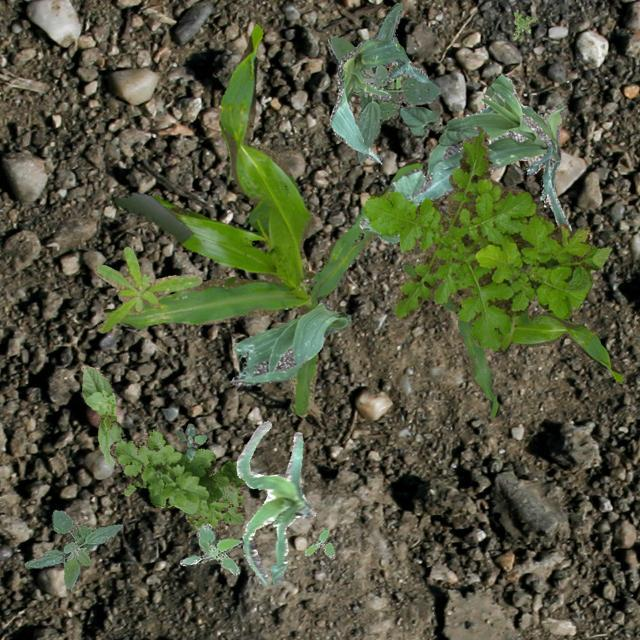crop: (103, 23, 420, 416), (402, 262, 622, 416), (406, 72, 570, 230), (236, 420, 314, 586), (328, 37, 426, 162), (228, 302, 349, 386), (358, 168, 424, 242), (80, 364, 120, 466), (396, 106, 478, 144)
weed: (362, 125, 610, 352), (326, 1, 441, 162), (110, 428, 248, 532), (94, 246, 202, 332), (23, 508, 122, 588), (178, 522, 242, 574), (174, 422, 206, 458), (382, 42, 403, 88), (304, 528, 334, 556), (512, 11, 536, 38)
